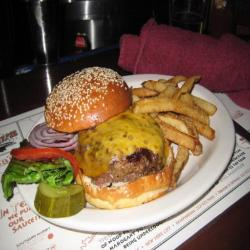burger: (42, 70, 178, 207)
fries: (129, 72, 226, 179)
salad: (4, 158, 79, 196)
